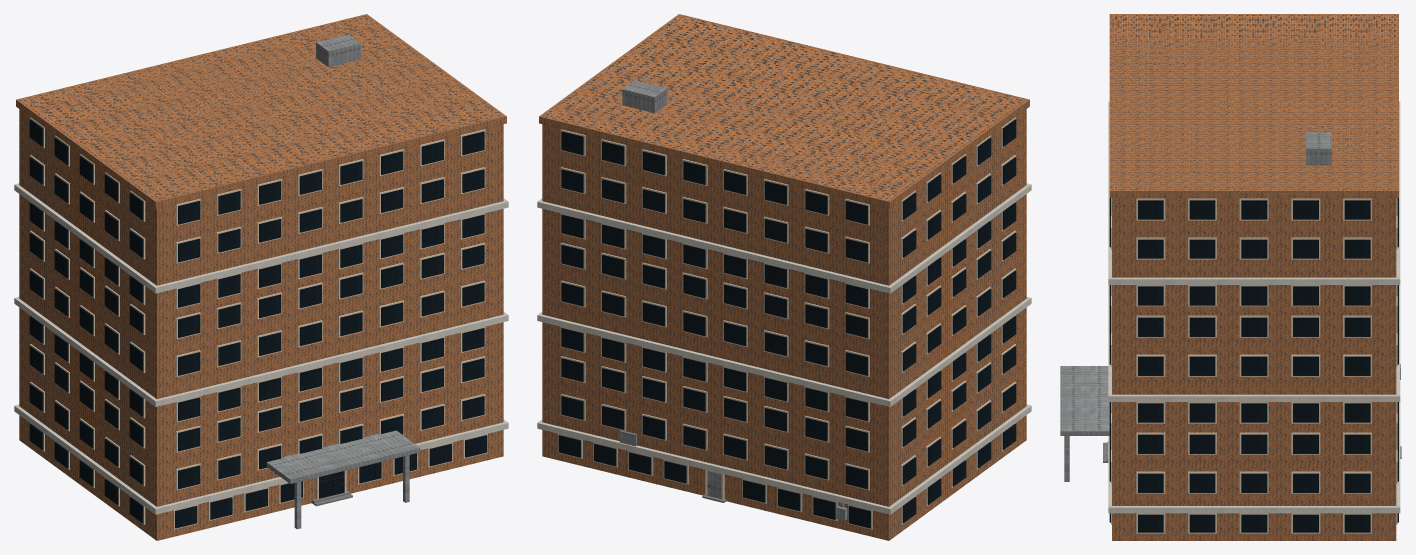
The model's file is riverbend-senior-house_lod0.gltf.
3 views of the same model, side by side, from view 1: azimuth 30°, elevation 25°; view 2: azimuth 150°, elevation 25°; view 3: azimuth 270°, elevation 25° (orthographic). The views are drawn at different scales.
Parts seen in each view (by area): view 1: riverbend-senior-house_main, riverbend-senior-house__parapet, riverbend-senior-house_fen_07-glass-curtain-blue_1_t, riverbend-senior-house_fen_04-limestone_0, riverbend-senior-house__stucco_band_c, riverbend-senior-house__stucco_band_b, riverbend-senior-house__dropoff_canopy, riverbend-senior-house__stucco_band_a, riverbend-senior-house__hvac; view 2: riverbend-senior-house_main, riverbend-senior-house_fen_07-glass-curtain-blue_1_t, riverbend-senior-house__parapet, riverbend-senior-house_fen_04-limestone_0, riverbend-senior-house__stucco_band_c, riverbend-senior-house__stucco_band_b, riverbend-senior-house__stucco_band_a, riverbend-senior-house__hvac, riverbend-senior-house_fen_14-steel-panel_4; view 3: riverbend-senior-house_main, riverbend-senior-house__parapet, riverbend-senior-house_fen_07-glass-curtain-blue_1_t, riverbend-senior-house_fen_04-limestone_0, riverbend-senior-house__dropoff_canopy, riverbend-senior-house__stucco_band_c, riverbend-senior-house__stucco_band_b, riverbend-senior-house__stucco_band_a, riverbend-senior-house__hvac.
Part boxes in pixels (x1,y1,x2,y2): riverbend-senior-house_main: (19,15,503,540); riverbend-senior-house__parapet: (16,14,506,208); riverbend-senior-house_fen_07-glass-curtain-blue_1_t: (29,119,487,528); riverbend-senior-house_fen_04-limestone_0: (30,117,487,529); riverbend-senior-house__stucco_band_c: (14,183,508,293); riverbend-senior-house__stucco_band_b: (14,297,508,406); riverbend-senior-house__dropoff_canopy: (266,430,420,483); riverbend-senior-house__stucco_band_a: (14,404,508,514); riverbend-senior-house__hvac: (316,34,360,67); riverbend-senior-house_main: (542,15,1026,540); riverbend-senior-house_fen_07-glass-curtain-blue_1_t: (558,119,1016,528); riverbend-senior-house__parapet: (539,14,1029,208); riverbend-senior-house_fen_04-limestone_0: (558,117,1015,529); riverbend-senior-house__stucco_band_c: (537,183,1031,293); riverbend-senior-house__stucco_band_b: (537,297,1031,406); riverbend-senior-house__stucco_band_a: (537,404,1031,514); riverbend-senior-house__hvac: (622,80,667,112); riverbend-senior-house_fen_14-steel-panel_4: (619,430,847,520); riverbend-senior-house_main: (1112,15,1396,540); riverbend-senior-house__parapet: (1109,14,1398,197); riverbend-senior-house_fen_07-glass-curtain-blue_1_t: (1109,198,1398,532); riverbend-senior-house_fen_04-limestone_0: (1111,198,1397,533); riverbend-senior-house__dropoff_canopy: (1060,366,1109,435); riverbend-senior-house__stucco_band_c: (1108,101,1400,284); riverbend-senior-house__stucco_band_b: (1108,285,1400,401); riverbend-senior-house__stucco_band_a: (1108,402,1400,513); riverbend-senior-house__hvac: (1306,132,1331,165).
Bounding box in the file's own units: 32.6 × 31.4 × 26.4.
